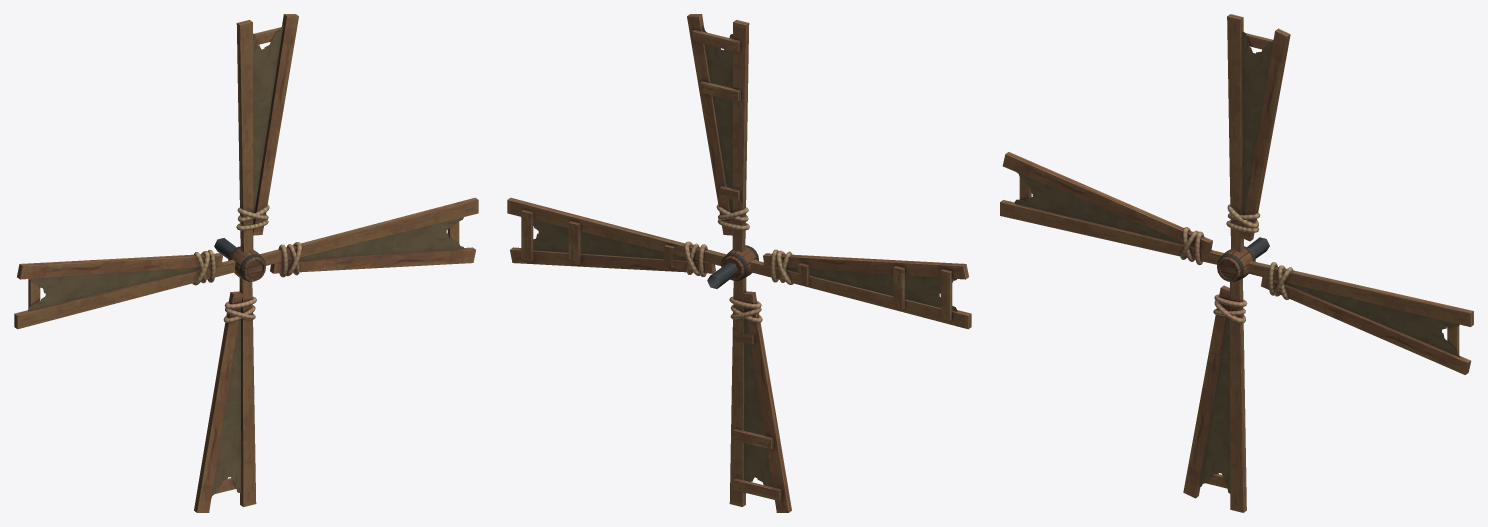
Rendered from windmill_fan.fbx.
3 views of the same model, side by side, from view 1: azimuth 30°, elevation 25°; view 2: azimuth 150°, elevation 25°; view 3: azimuth 330°, elevation 25° (orthographic). The views are drawn at different scales.
Parts seen in each view (by area): view 1: windmill_fan; view 2: windmill_fan; view 3: windmill_fan.
Part boxes in pixels (x1,y1,x2,y2): windmill_fan: (14,14,478,512); windmill_fan: (507,14,971,512); windmill_fan: (1000,14,1473,512).
Size of the model in its own units: 2771 by 2771 by 361.
1 material, 1 textured.
